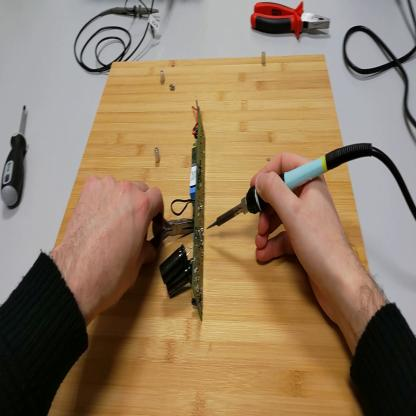hand: (248, 149, 353, 322), (64, 175, 164, 312)
high voltage board: (163, 94, 211, 322)
oscilloscope probe tip: (113, 5, 161, 21)
pliers: (251, 3, 332, 44), (151, 215, 195, 248)
screwdriver-: (3, 103, 30, 211)
welder probe tip: (209, 144, 375, 233)
working area: (50, 53, 376, 415)
